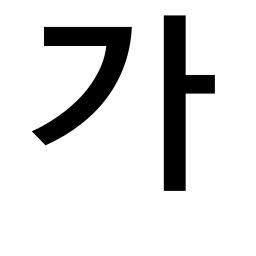Gaji: (152, 62, 205, 113)
